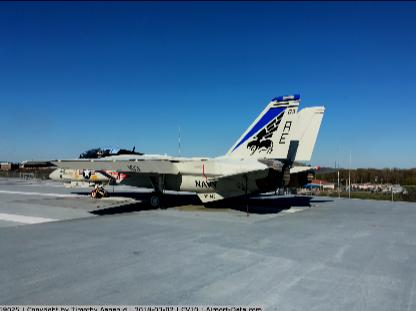EF2000: (20, 92, 344, 207)
